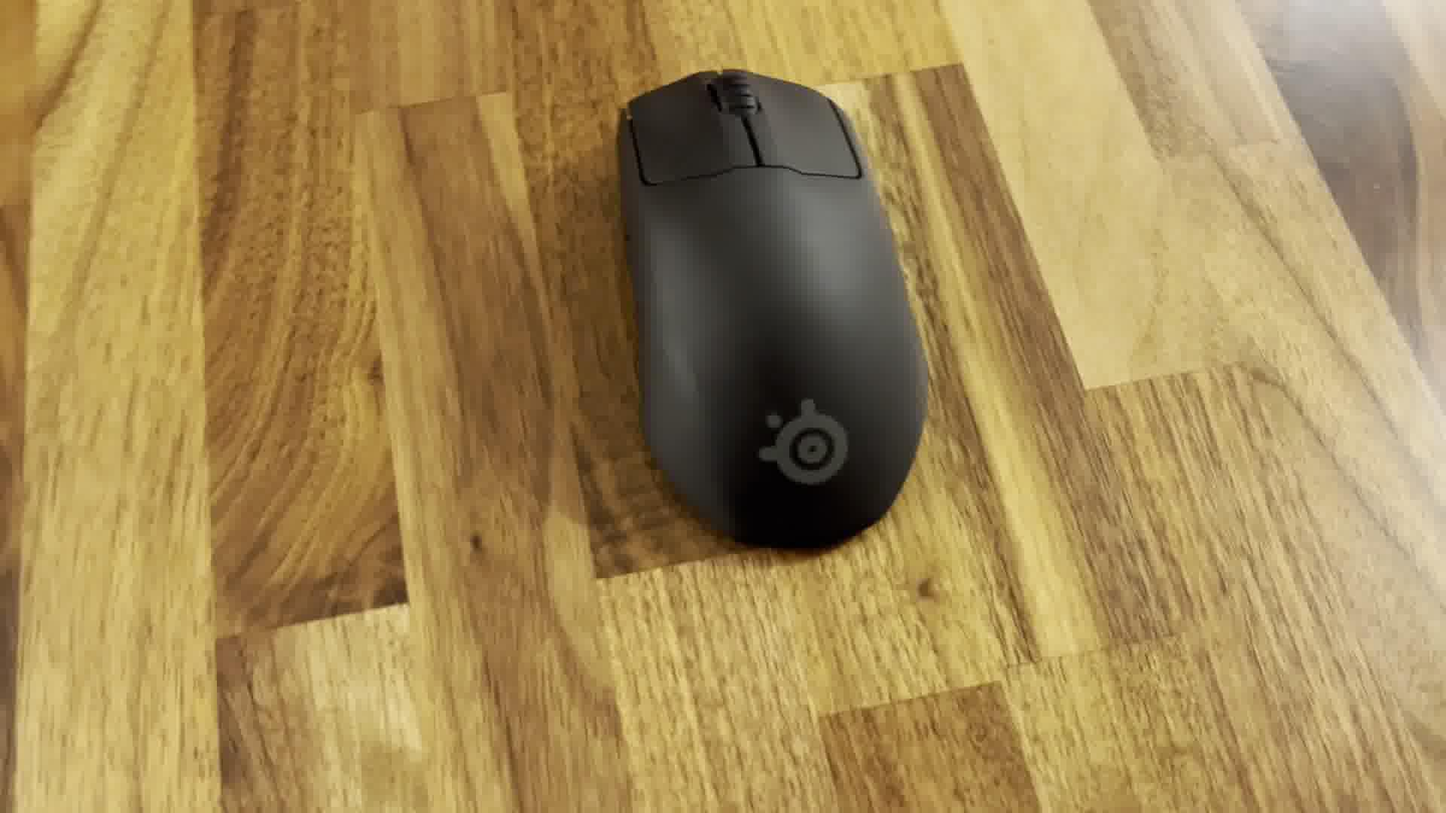steel-series: (612, 63, 931, 555)
